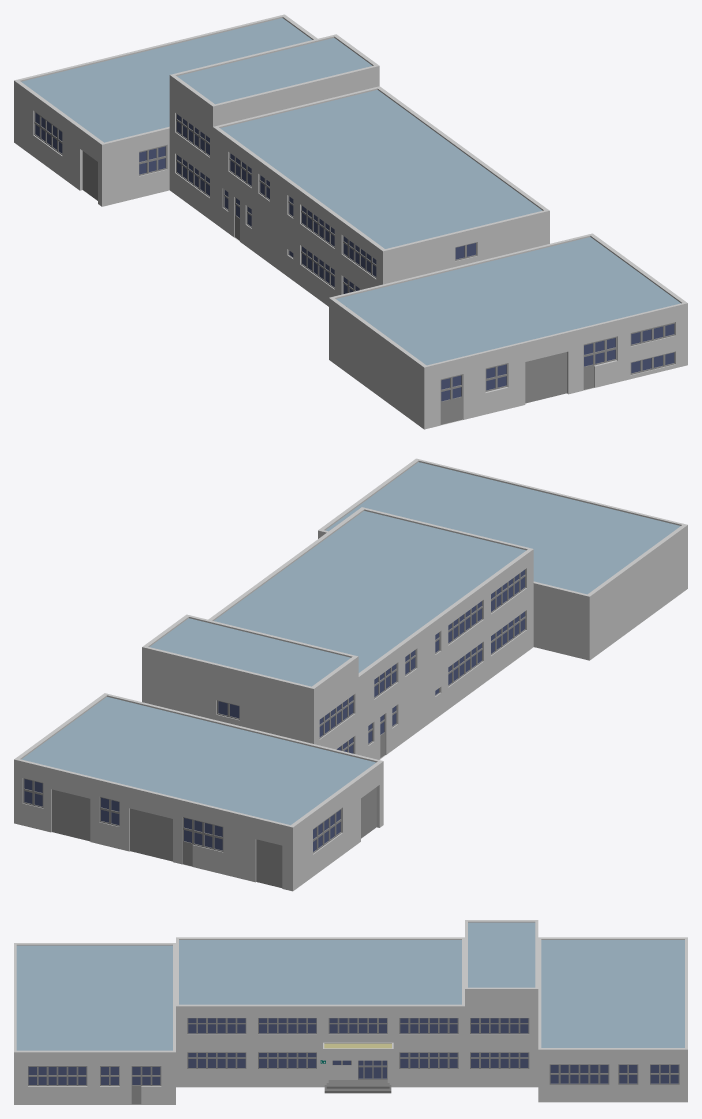
Rendered from Building_C.fbx.
The picture shows the model from 3 angles, top to bottom: view 1: azimuth 30°, elevation 25°; view 2: azimuth 150°, elevation 25°; view 3: azimuth 270°, elevation 25°; orthographic projection. The views are drawn at different scales.
Parts seen in each view (by area): view 1: BuildingC; view 2: BuildingC; view 3: BuildingC.
Boxes of the visible parts, <box> form: BuildingC: <box>14,14,687,429</box>; BuildingC: <box>14,458,687,891</box>; BuildingC: <box>14,920,687,1104</box>.
Bounding box in the file's own units: 22.1 × 8.8 × 54.77.
